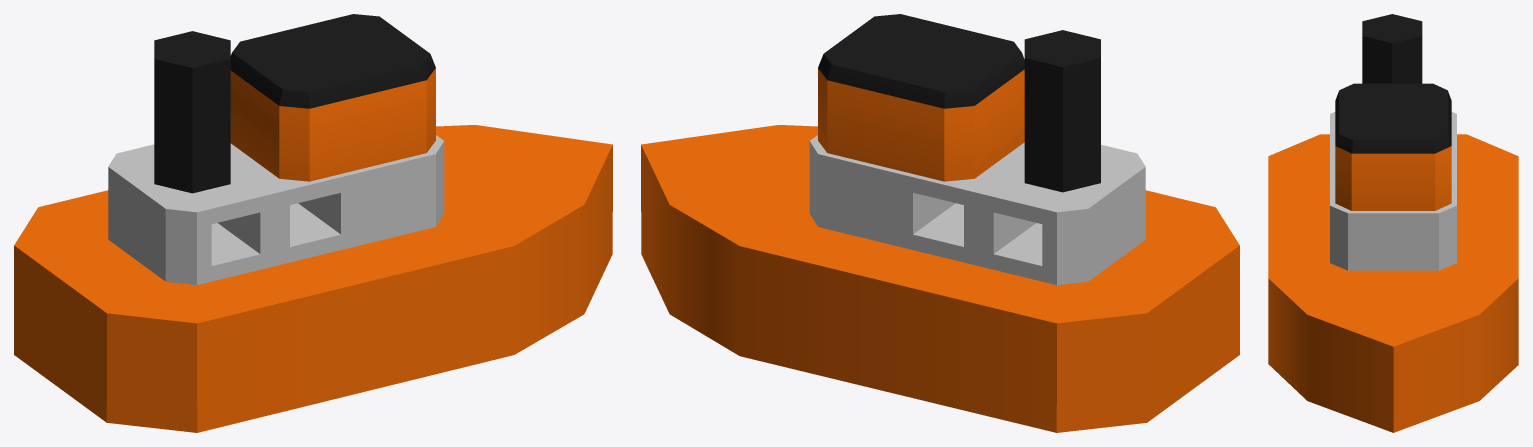
File: Boat_E.FBX
The picture shows the model from 3 angles, left to right: view 1: azimuth 30°, elevation 25°; view 2: azimuth 150°, elevation 25°; view 3: azimuth 270°, elevation 25°; orthographic projection. The views are drawn at different scales.
Visible parts, largest first — view 1: Boat; view 2: Boat; view 3: Boat.
Part boxes in pixels (box(x1,y1,x2,y2)): Boat: box(14, 14, 612, 432); Boat: box(641, 14, 1239, 432); Boat: box(1268, 14, 1518, 432).
Size of the model in its own units: 119 by 63.46 by 59.25.
